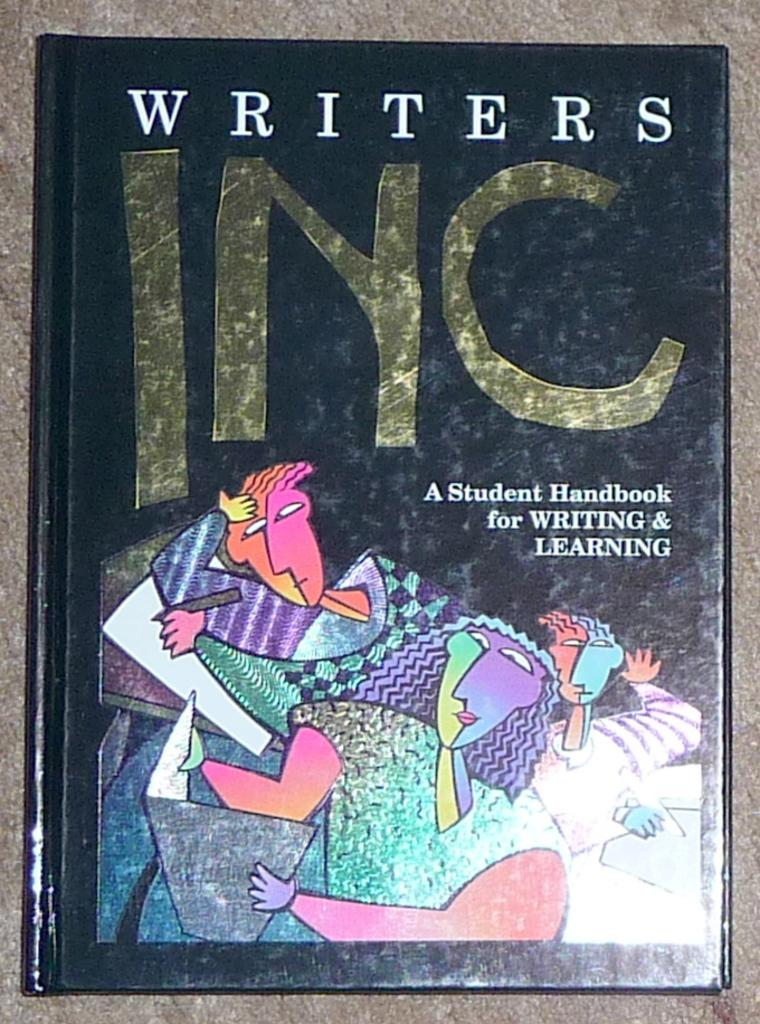book: (15, 35, 736, 995)
